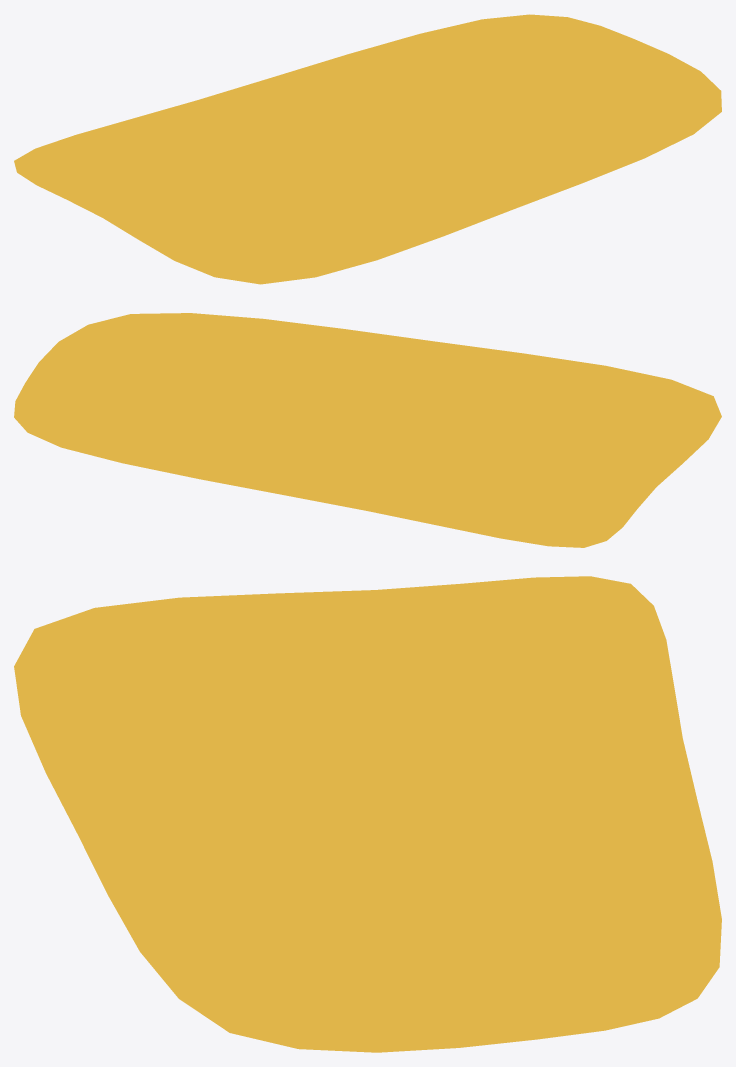
The model's file is RecorridoConstitucion-OLD.gltf.
The picture shows the model from 3 angles, top to bottom: view 1: azimuth 30°, elevation 25°; view 2: azimuth 150°, elevation 25°; view 3: azimuth 270°, elevation 25°; orthographic projection. The views are drawn at different scales.
Parts seen in each view (by area): view 1: RecorridoConstitucion; view 2: RecorridoConstitucion; view 3: RecorridoConstitucion.
Part boxes in pixels (box(x1,y1,x2,y2)): RecorridoConstitucion: box(14, 14, 721, 284); RecorridoConstitucion: box(14, 313, 721, 547); RecorridoConstitucion: box(14, 576, 721, 1052).
Size of the model in its own units: 2 by 0 by 1.26.
